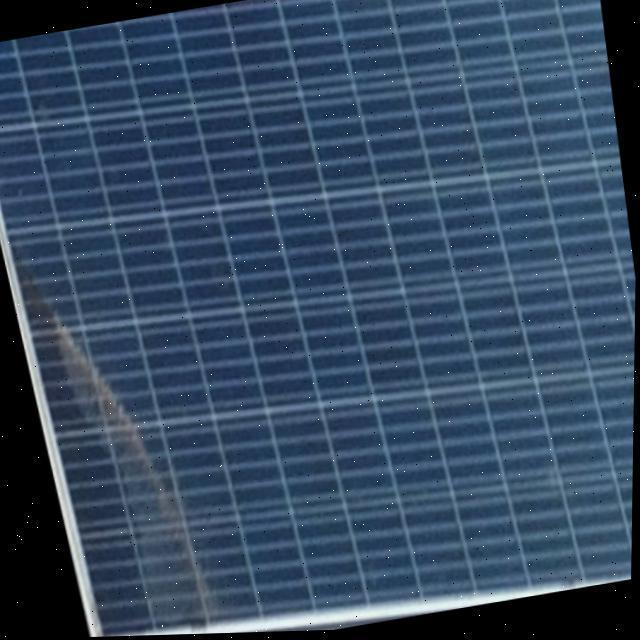Surface Contaminant: (3, 197, 253, 639)
